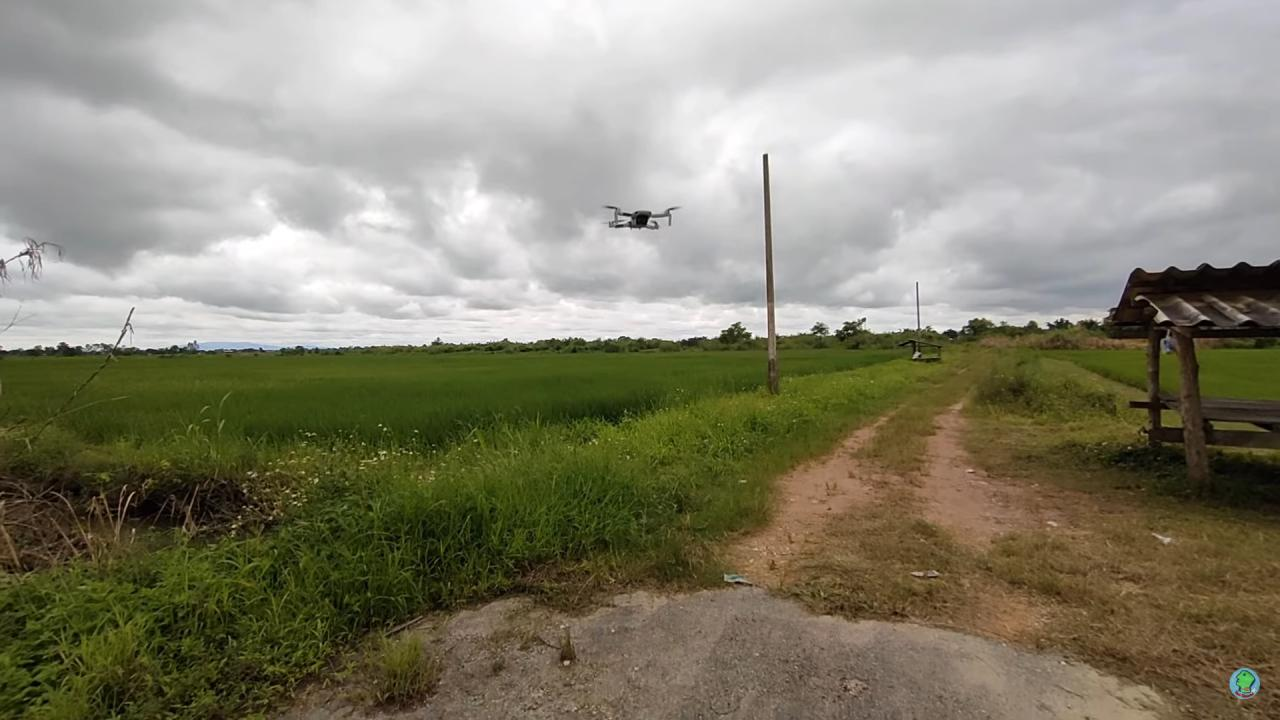Drone: (592, 194, 691, 240)
